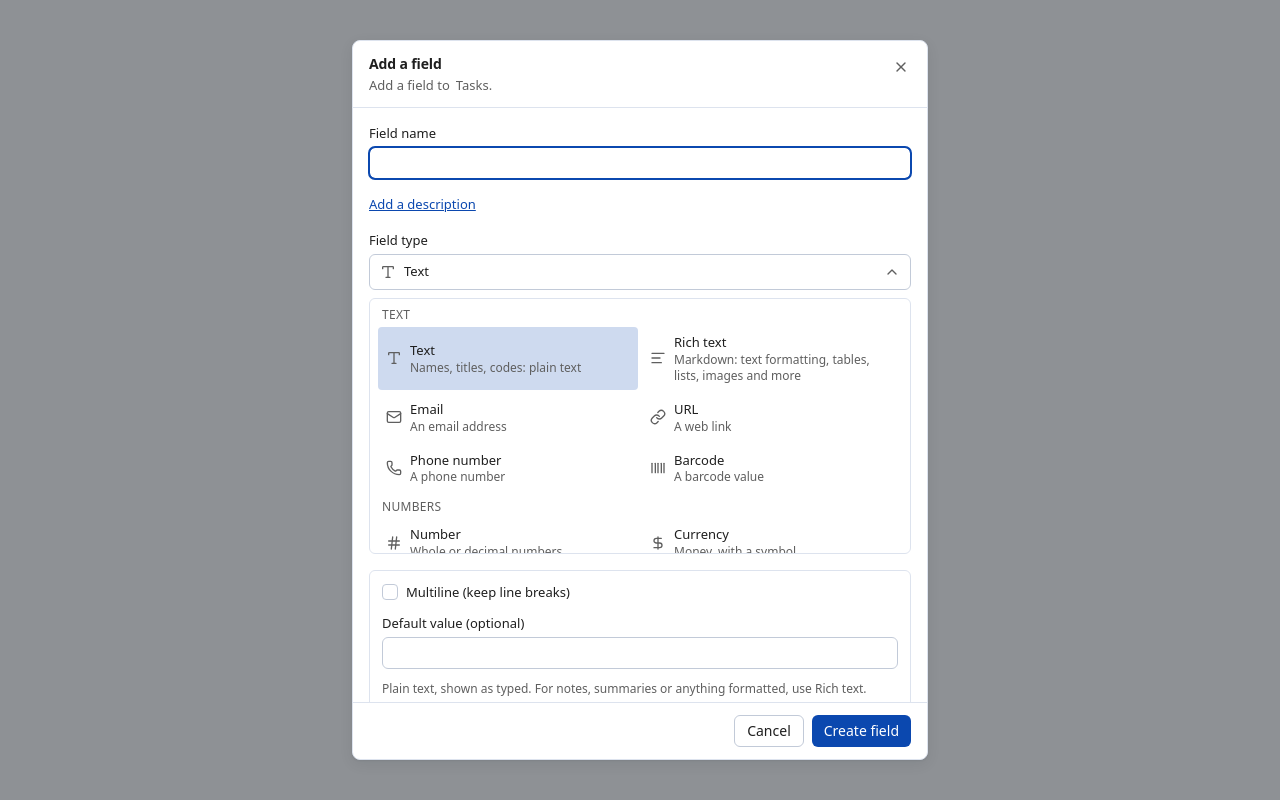
Test: FieldDialog: create › validates before sending
Click the button "Create field" at (861, 731), box [812,715,911,747]
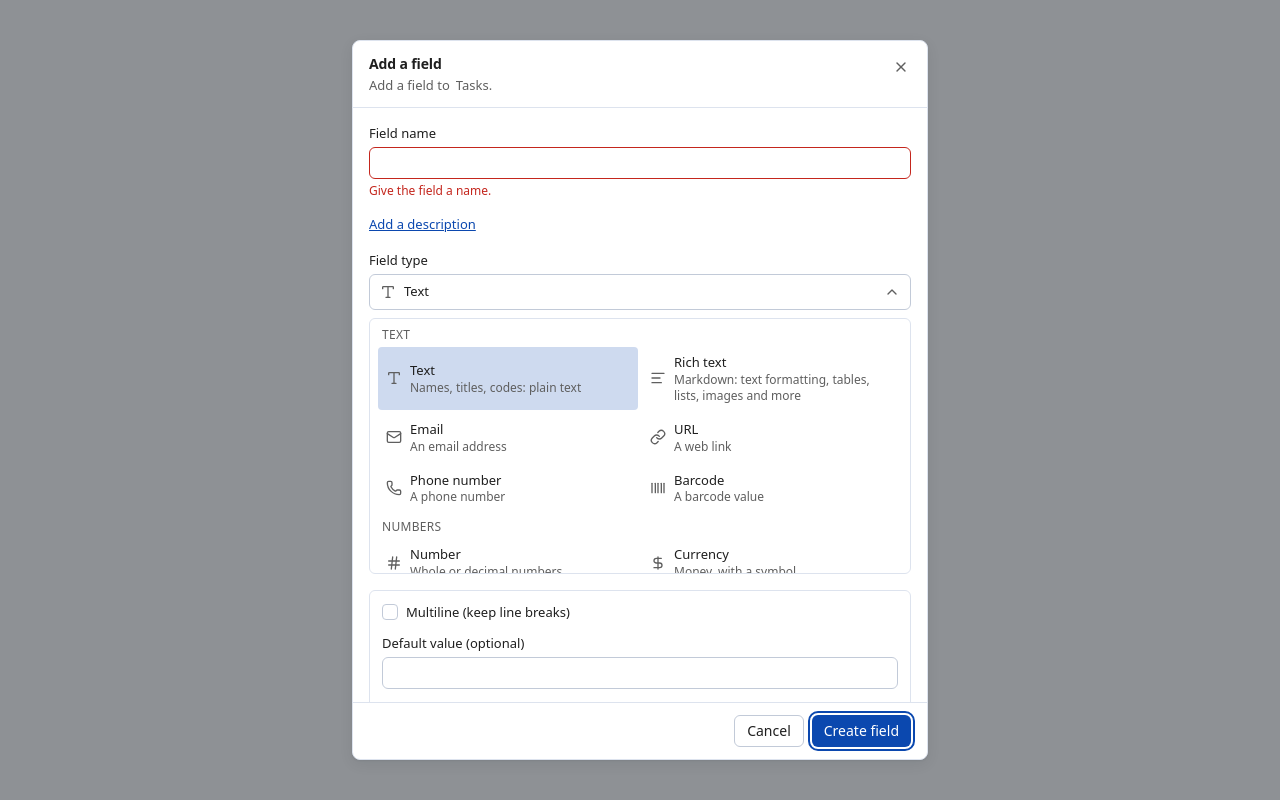
Expected: the text "Give the field a name." is shown, [369,182,491,199]
Type "Name" into the field labelled "Field name" at (640, 163), box [369,147,911,179]
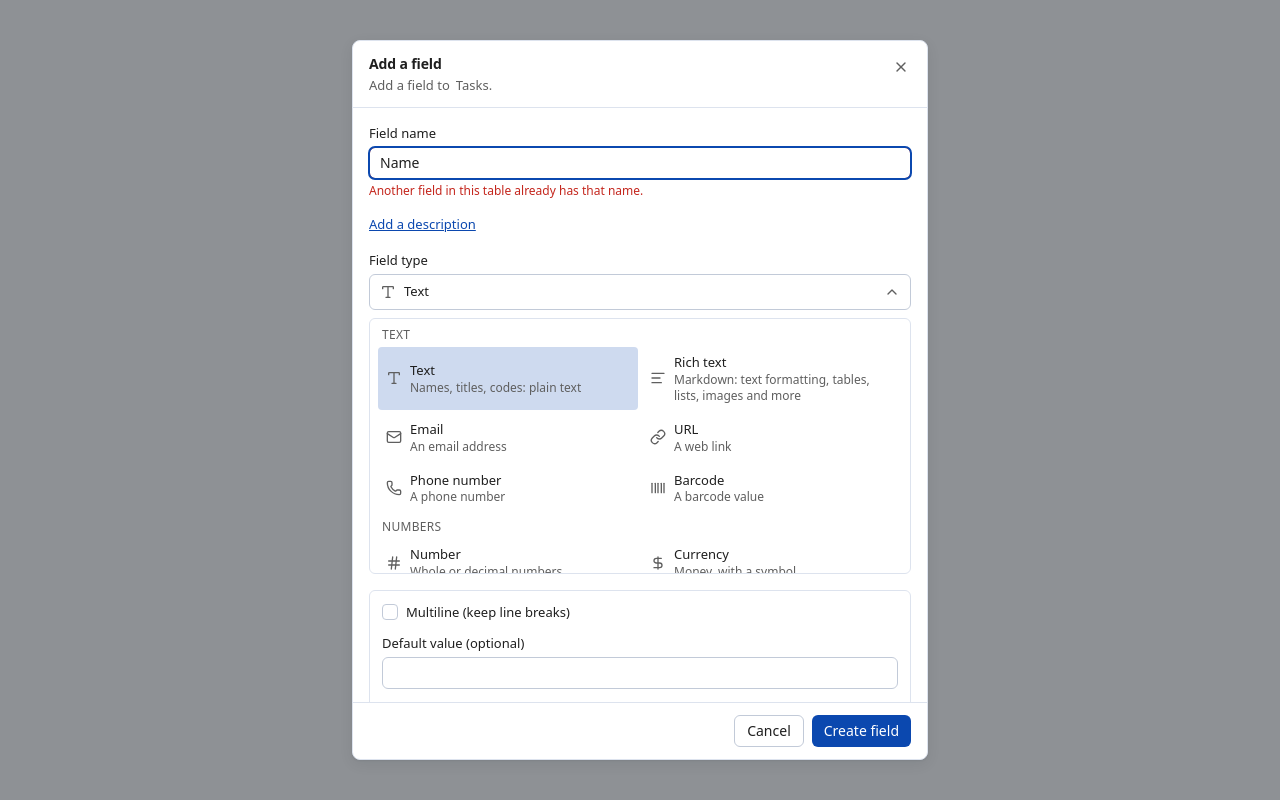
Expected: the text "Another field in this table already has that name." is shown, [369,182,643,199]
